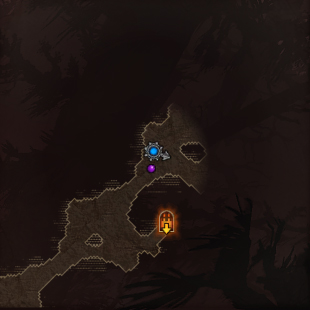Exit: (157, 206, 176, 234)
